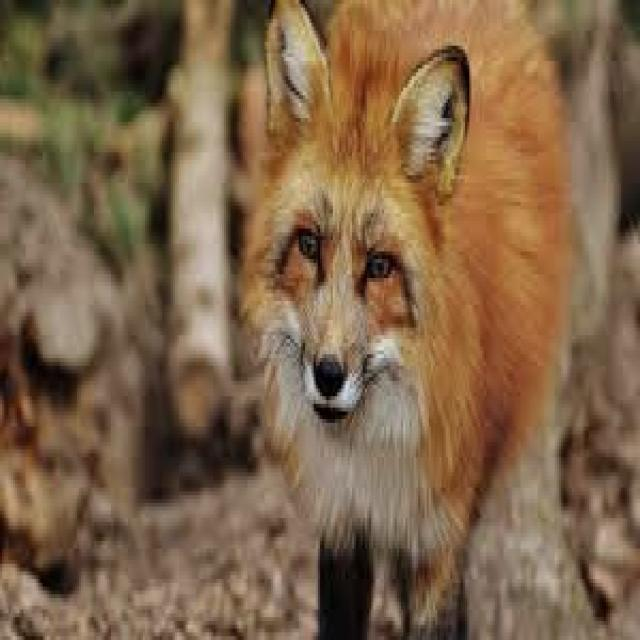fox: (243, 0, 593, 636)
